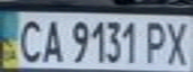1: (87, 17, 109, 63), (121, 18, 142, 64)
3: (103, 18, 124, 63)
9: (66, 17, 90, 64)
A: (36, 16, 66, 64)
C: (12, 16, 45, 63)
P: (142, 17, 172, 65)
X: (160, 17, 193, 66)
